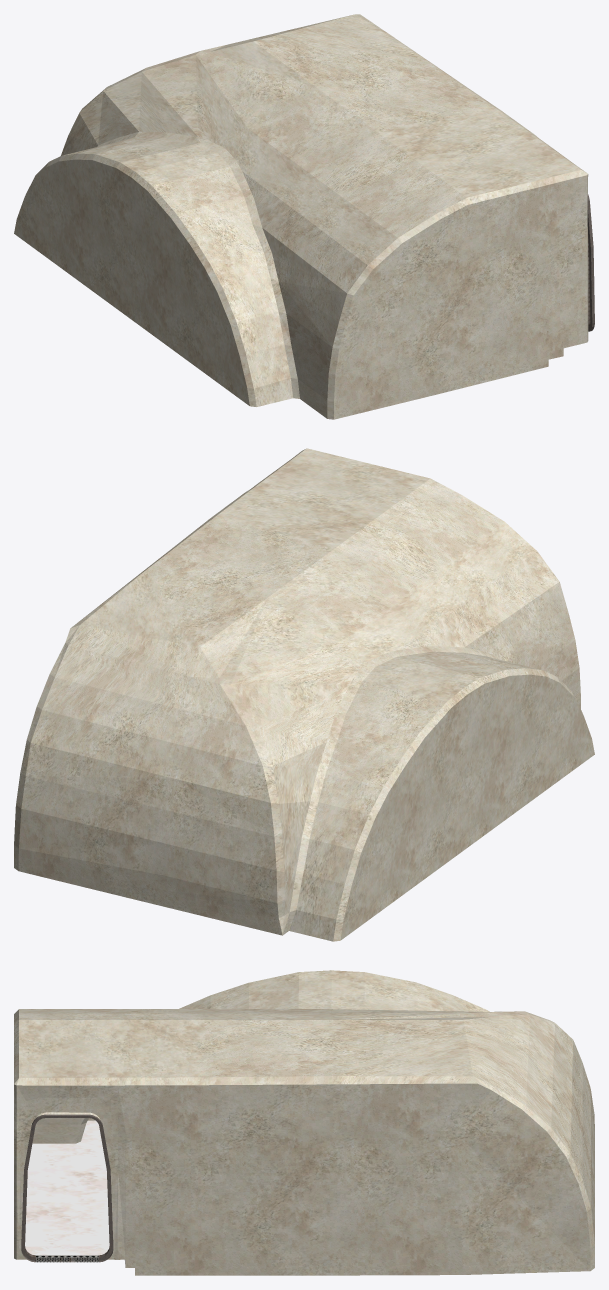
The model's file is thm_tato_assoc_hall_civ_s02_r17_bedroom4_mesh_r17.fbx.
3 renders of one model, top to bottom at view 1: azimuth 30°, elevation 25°; view 2: azimuth 150°, elevation 25°; view 3: azimuth 270°, elevation 25°, orthographic. The views are drawn at different scales.
Visible parts, largest first — view 1: mesh_node; view 2: mesh_node; view 3: mesh_node.
Part boxes in pixels (x1,y1,x2,y2): mesh_node: (14, 14, 594, 419); mesh_node: (14, 448, 594, 941); mesh_node: (14, 970, 594, 1275).
Bounding box in the file's own units: 7.43 × 4.23 × 11.45.
